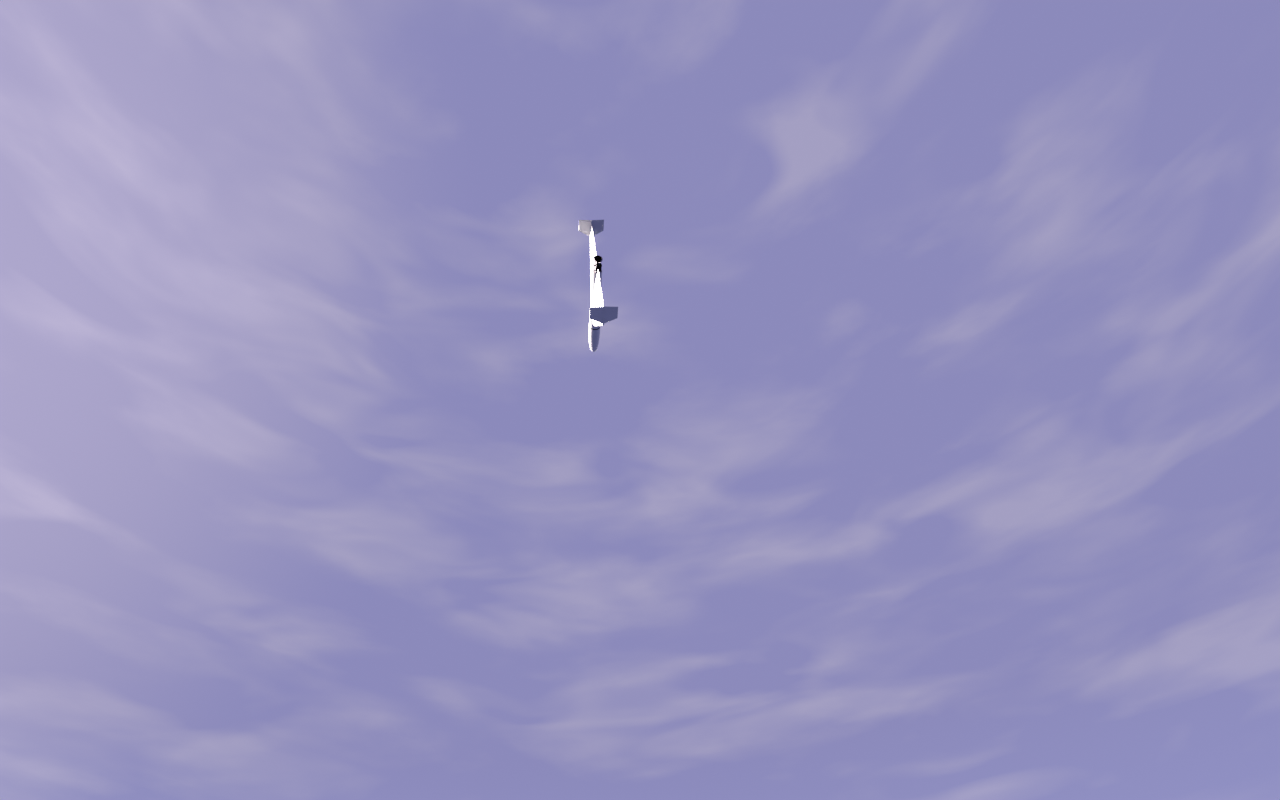shahed: (578, 220, 620, 354)
